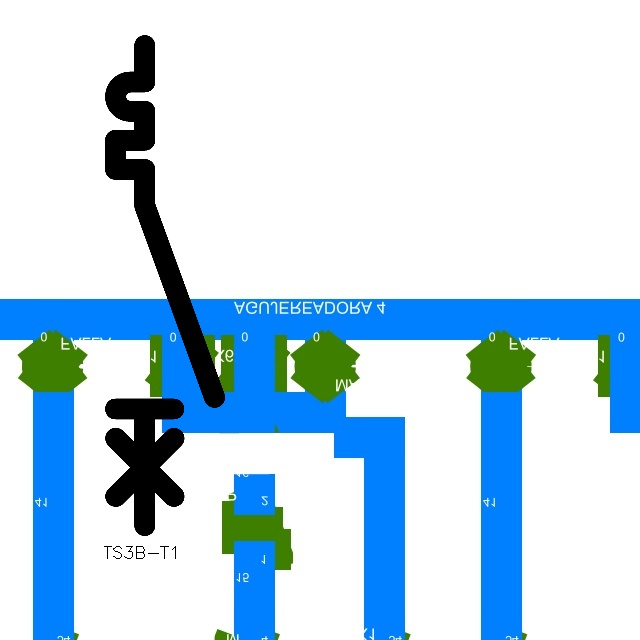interruptor_termomagnetico: (103, 33, 226, 538)
